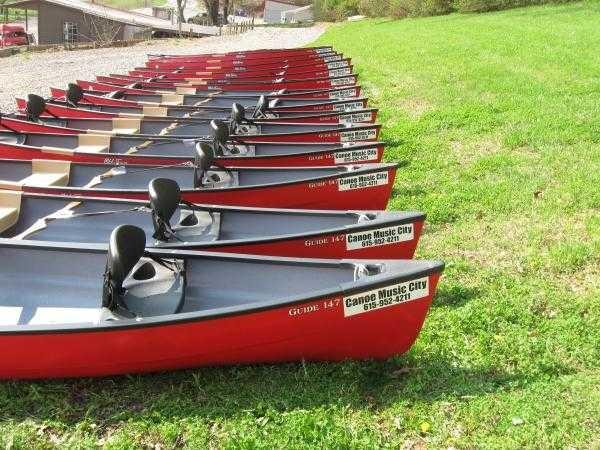kayak: (1, 212, 442, 379), (1, 154, 409, 233), (2, 187, 426, 263), (5, 112, 379, 157), (27, 82, 365, 121), (140, 47, 356, 79), (212, 134, 383, 162), (61, 83, 224, 110), (92, 70, 290, 92), (234, 115, 382, 137), (247, 102, 375, 126), (0, 184, 22, 234), (0, 23, 30, 48)
